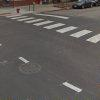Crosswalk: (15, 10, 99, 44)
